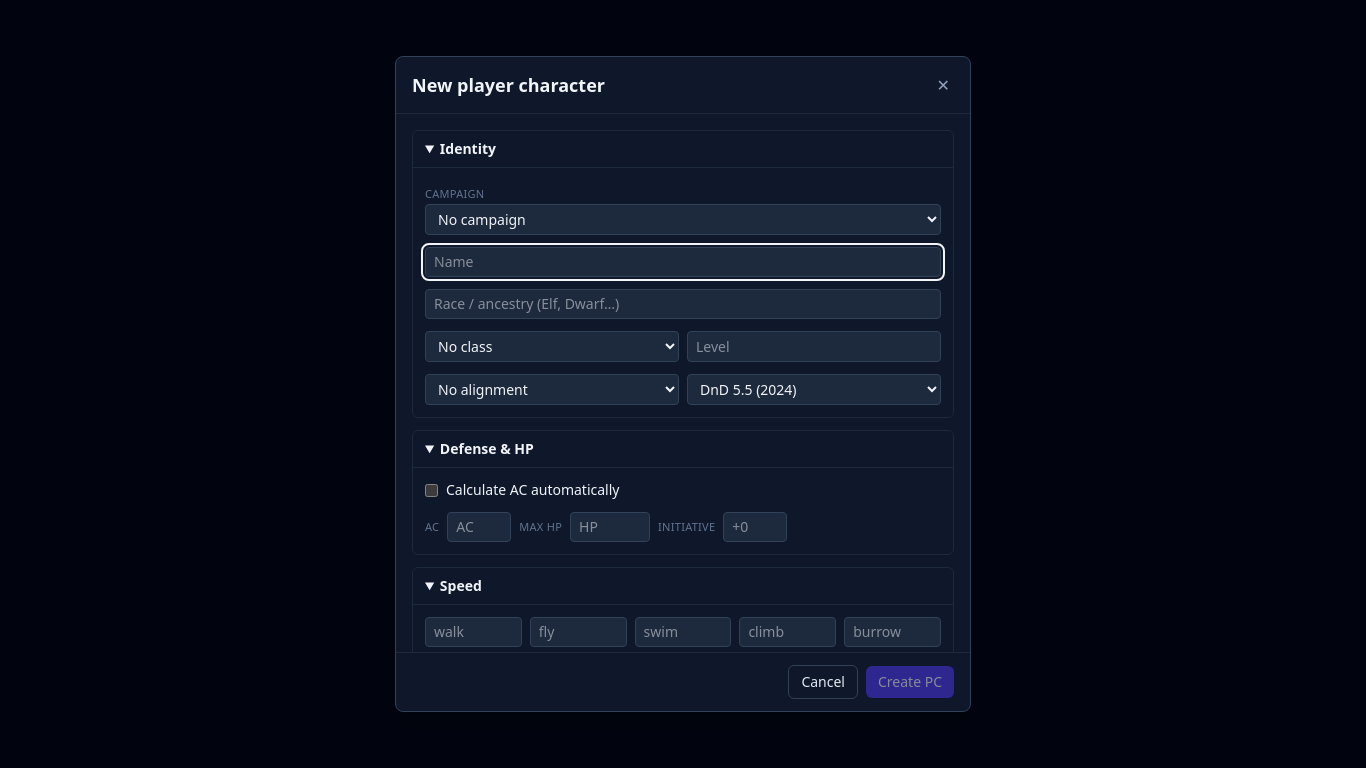
Scenario: PcFormModal › shows the armor block and the derived AC only once auto is on
This screenshot has width=1366, height=768.
Check: the field labelled "Armor" is not shown
Check: the field labelled "Shield" is not shown
Click the checkbox labelled "Calculate AC automatically". click: x=432, y=490
box: [425,484,438,497]
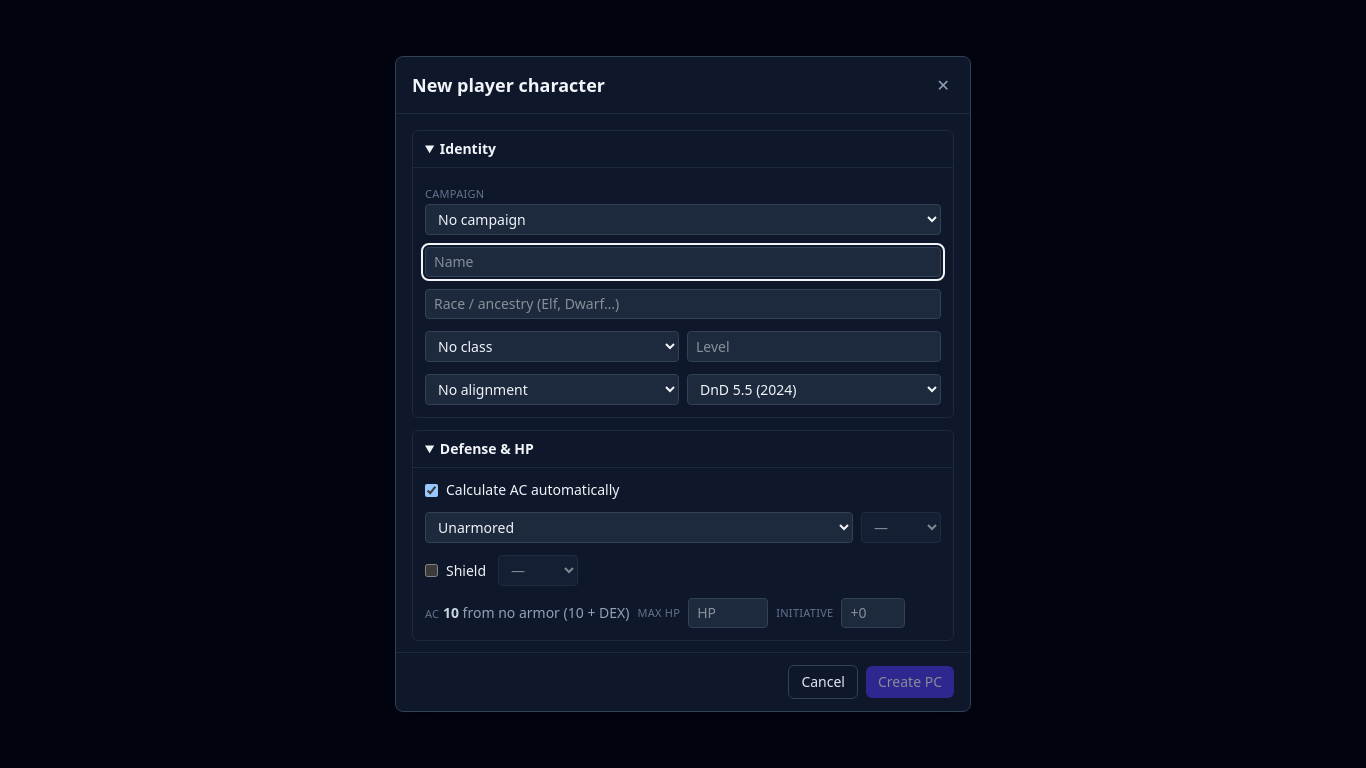
Select "Chain Mail" in the dropdown named "Armor". click: x=639, y=528
box: [425,512,853,543]
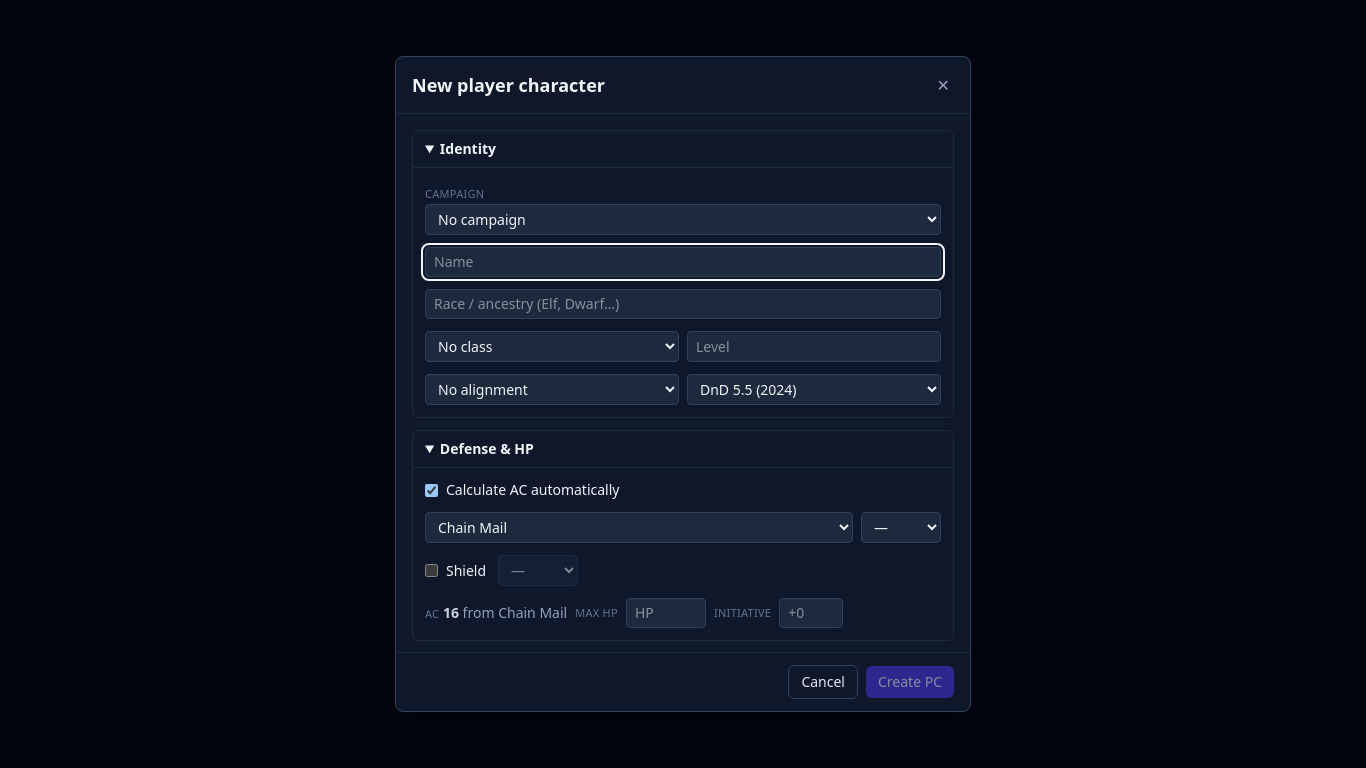
Check: the text "16" is shown, box [443,603,459,622]
Check: the text "from Chain Mail" is shown, box [459,603,567,622]
